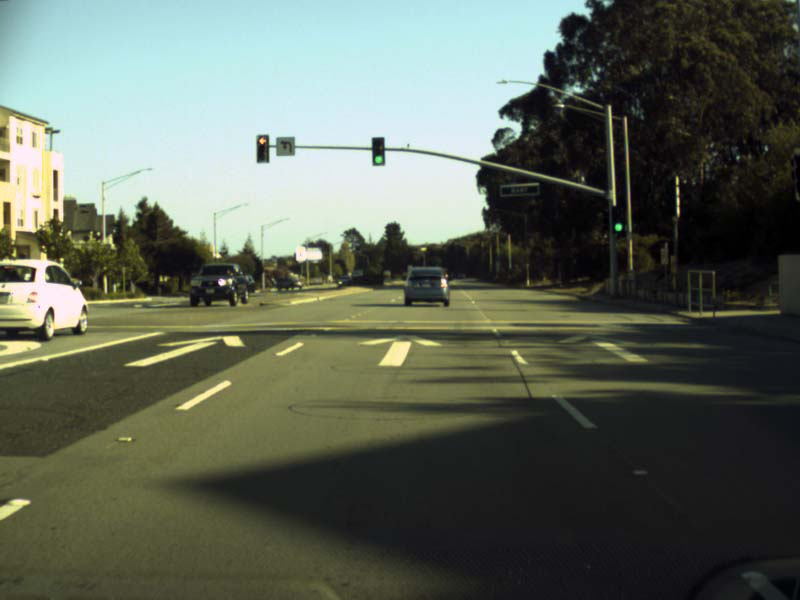Green: (371, 136, 384, 166), (612, 207, 623, 232)
Red: (255, 134, 268, 163)
